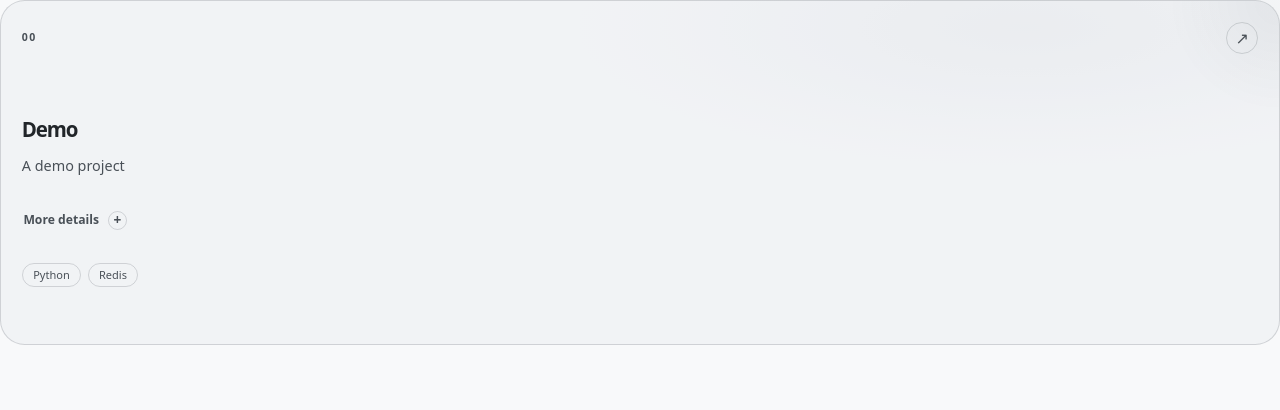
Test: ProjectCard › reveals and hides project-specific details with an accessible disclosure
The width and height of the screenshot is (1280, 410).
Click the button with aria-label "Show details for Demo". click: (75, 220)
box: [22, 206, 129, 234]
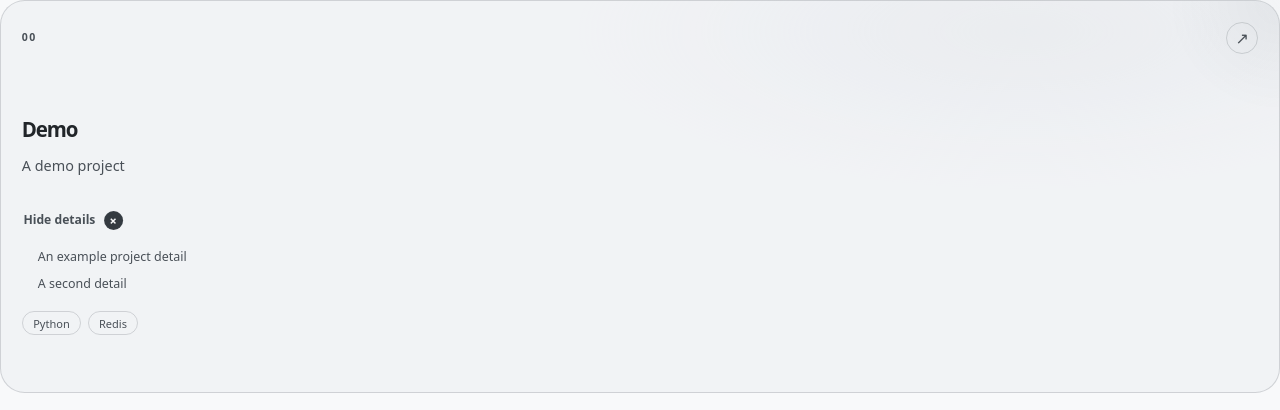
Check: the button with aria-label "Hide details for Demo" is expanded
Check: the list item "An example project detail" is shown, box [38, 248, 187, 267]
Click the button with aria-label "Hide details for Demo". click: (73, 220)
box: [22, 206, 125, 234]
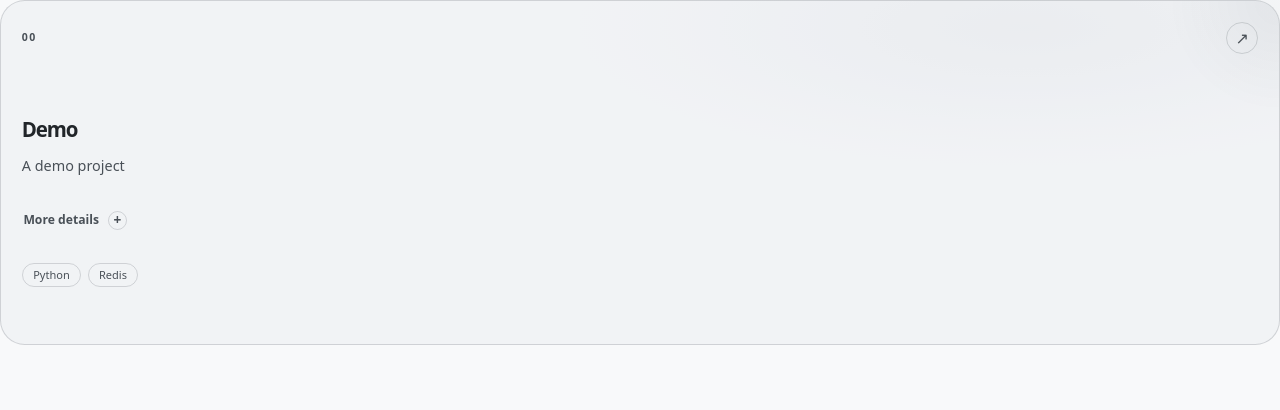
Check: the button with aria-label "Show details for Demo" is collapsed, box [22, 206, 129, 234]
